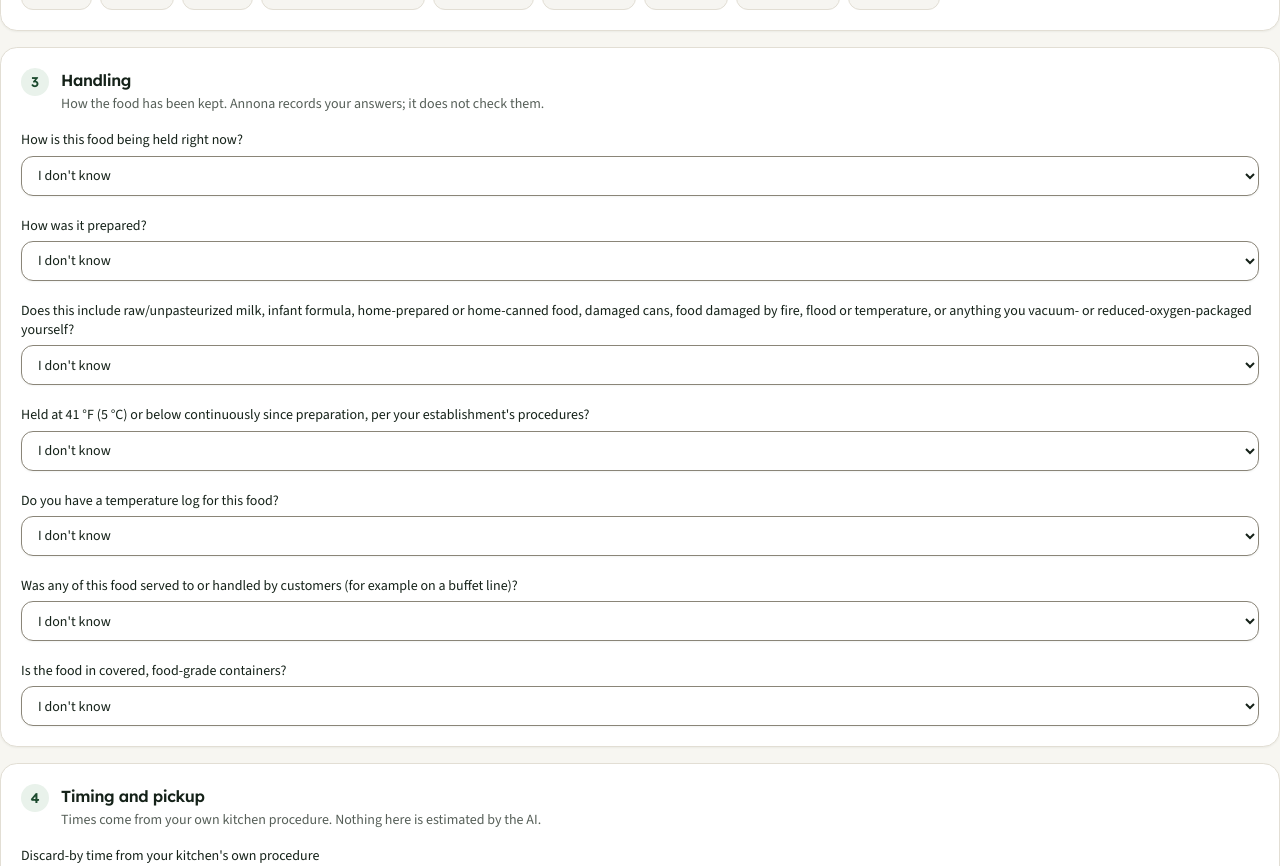
Test case: the cold-holding and temperature-log questions › come back, with their old answers, if the donor switches back to refrigerated
(page scrolled)
Select "Yes" in the dropdown labelled "Held at 41" at point(640, 450), box 21,430 -> 1259,470
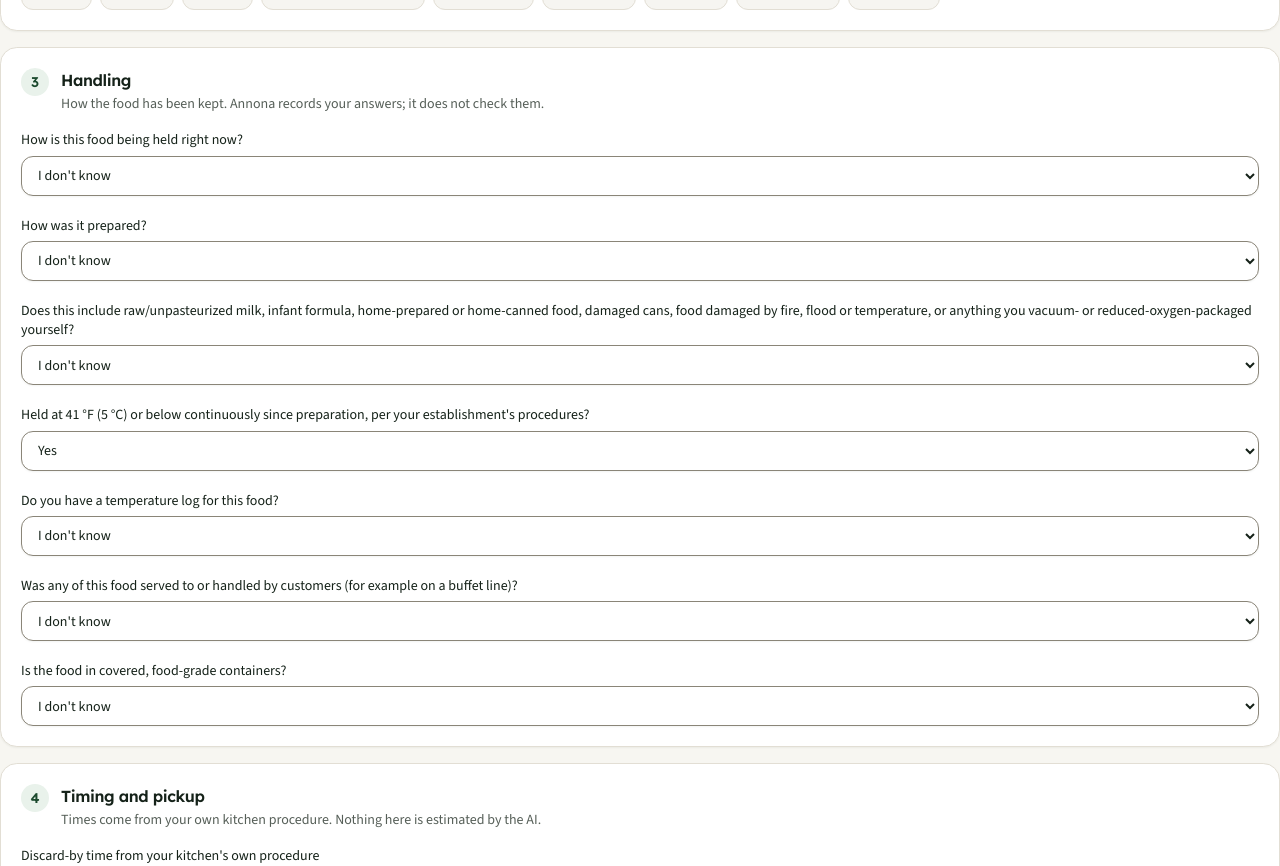
Select "Room temperature" in the dropdown labelled "How is this food being held right now?" at point(640, 176), box 21,156 -> 1259,196
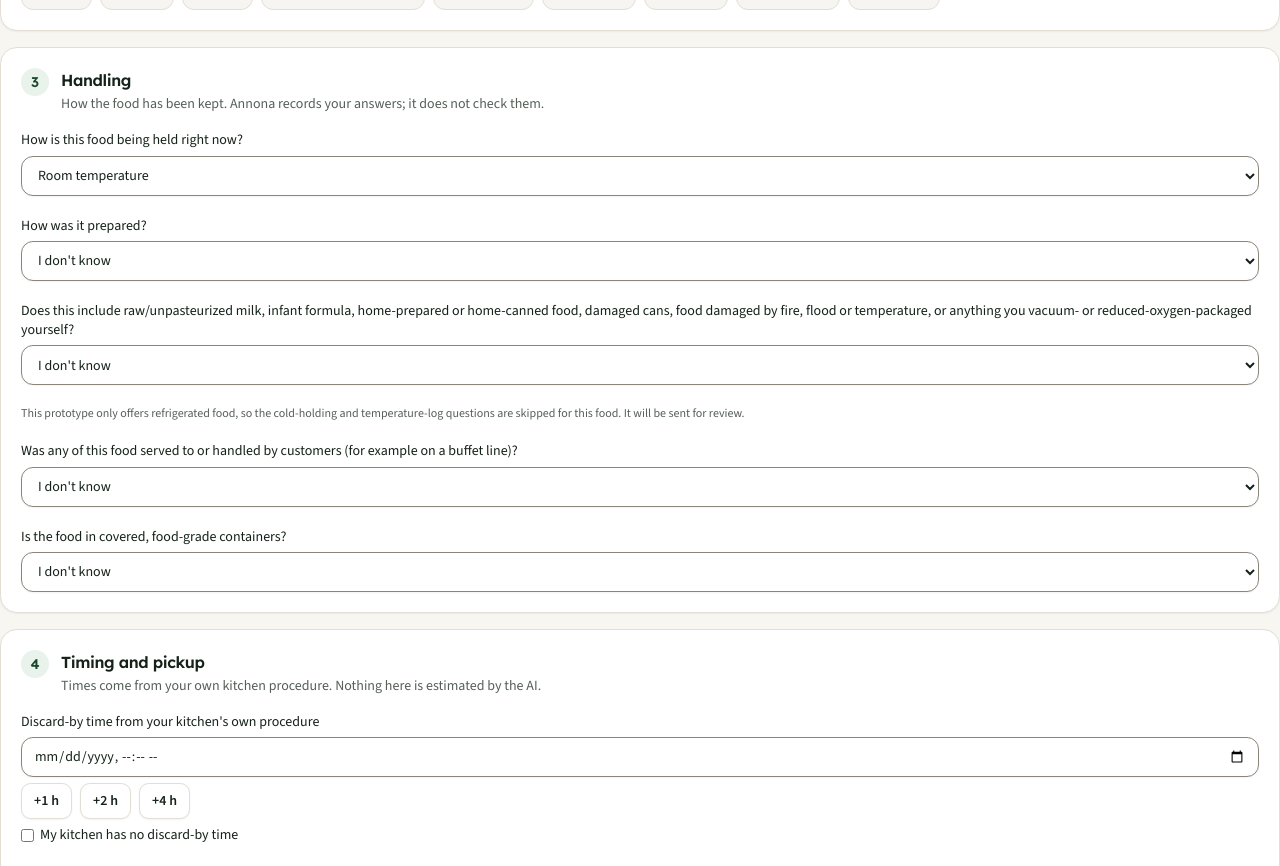
Select "Refrigerated" in the dropdown labelled "How is this food being held right now?" at point(640, 176), box 21,156 -> 1259,196
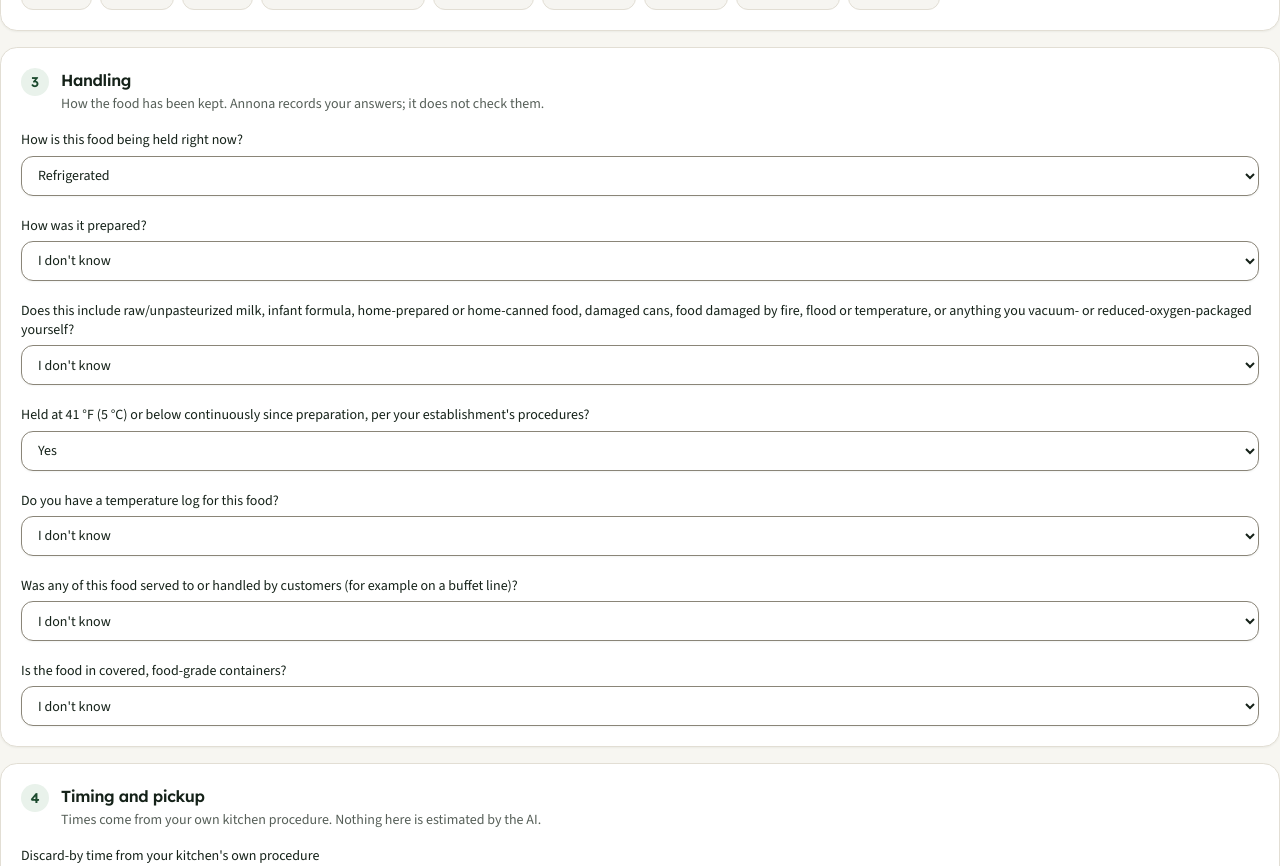
Result: the dropdown labelled "Held at 41" shows "Yes" at 21,430 -> 1259,470
